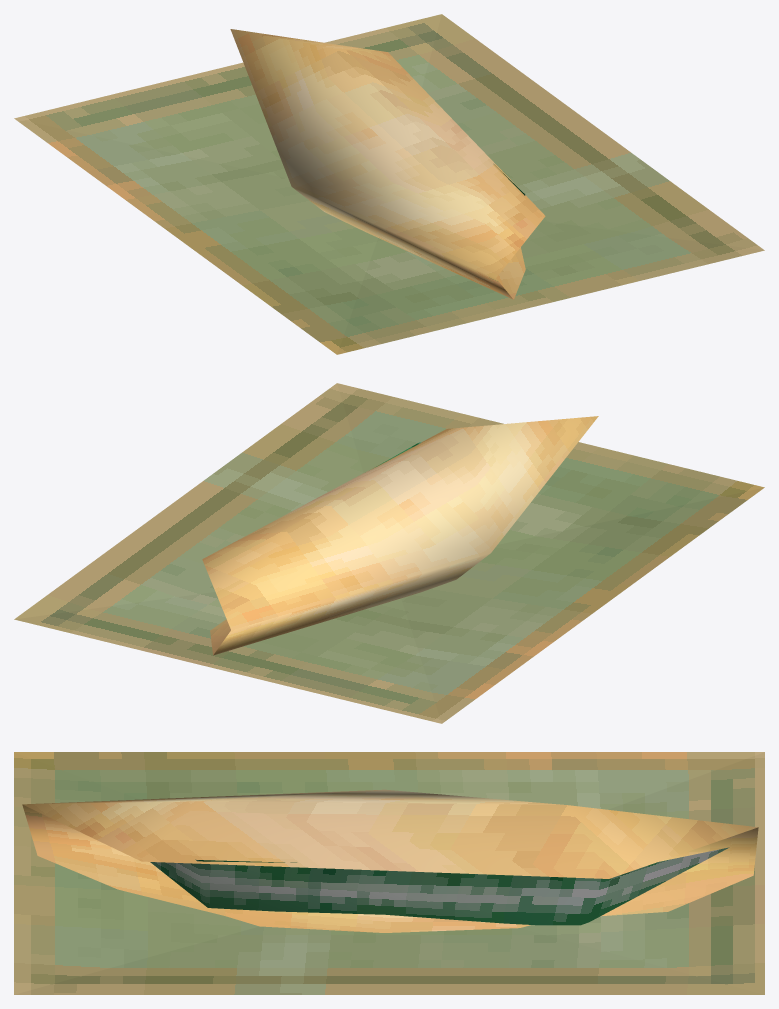
File: edb_dish_dustcrepe_l2.fbx
3 renders of one model, top to bottom at view 1: azimuth 30°, elevation 25°; view 2: azimuth 150°, elevation 25°; view 3: azimuth 270°, elevation 25°, orthographic. The views are drawn at different scales.
Visible parts, largest first — view 1: mesh_node; view 2: mesh_node; view 3: mesh_node.
Part boxes in pixels (<box>): mesh_node: <box>14,14,764,354</box>; mesh_node: <box>14,383,764,723</box>; mesh_node: <box>14,752,764,994</box>.
Bounding box in the file's own units: 0.3539 × 0.0746 × 0.4627.
